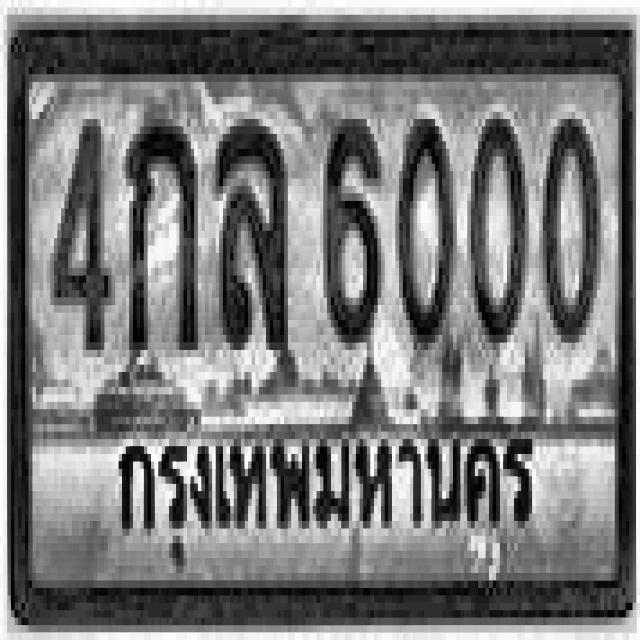license-plate: (12, 29, 632, 616)
